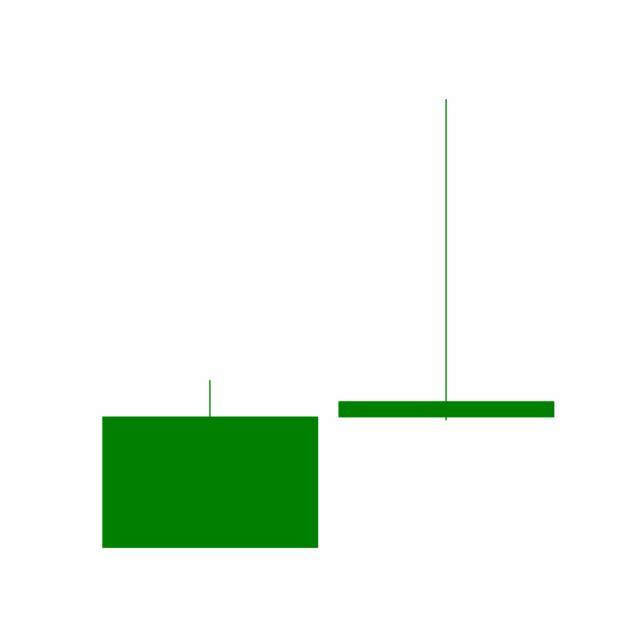Gravestone Doji: (328, 97, 566, 426)
